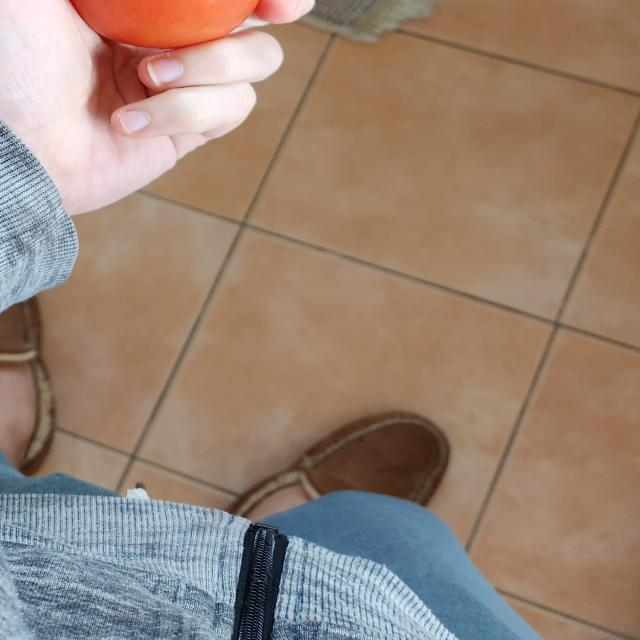tomato: (63, 0, 270, 50)
